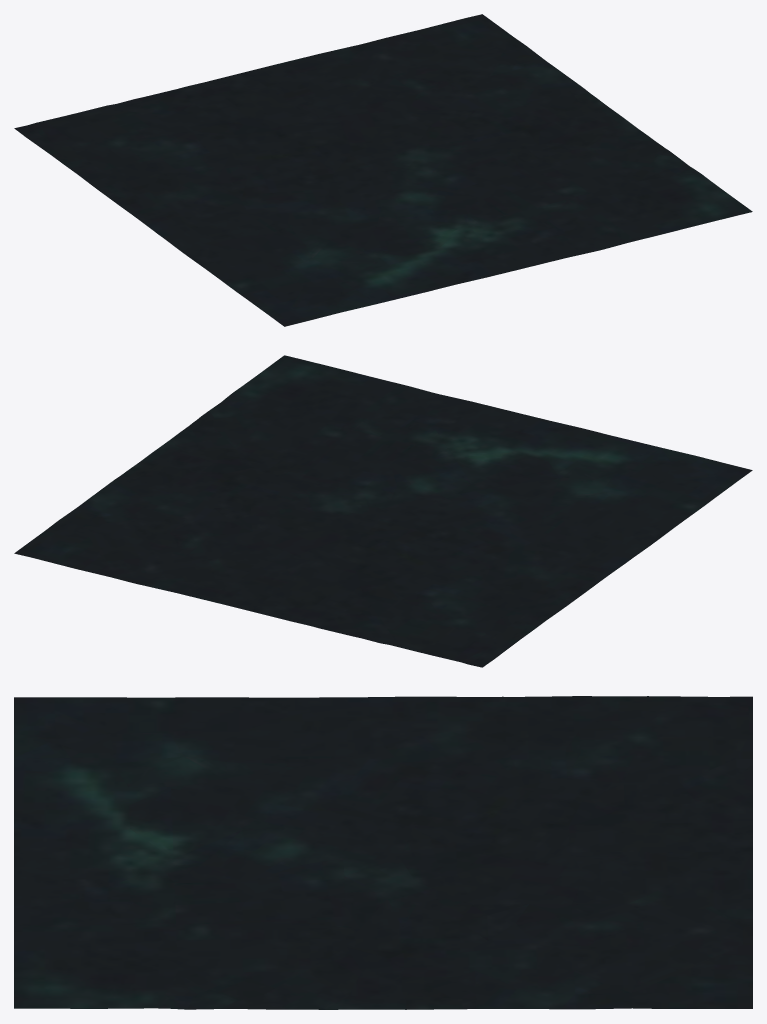
The picture shows the model from 3 angles, top to bottom: view 1: azimuth 30°, elevation 25°; view 2: azimuth 150°, elevation 25°; view 3: azimuth 270°, elevation 25°; orthographic projection. The views are drawn at different scales.
Bounding box in the file's own units: 52.22 × 0.2037 × 52.22.
Materials: 3 (3 with a texture image).
